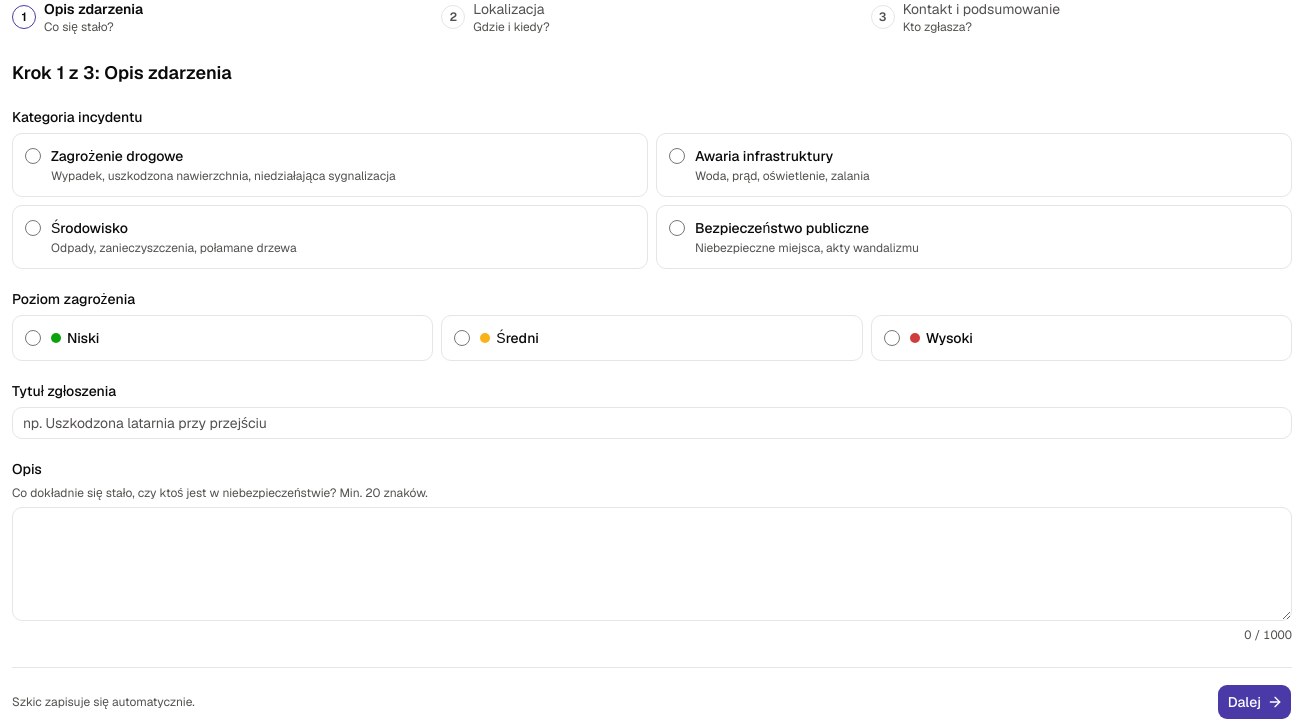
Scenario: IncidentForm › blocks the first step until it is valid and stays accessible with errors shown
The image size is (1304, 720).
(page scrolled)
Expected: the heading "Krok 1 z 3: Opis zdarzenia" is shown, [12,61,232,84]
Click the button "Dalej": {"x": 1254, "y": 702} [1217,684,1292,719]
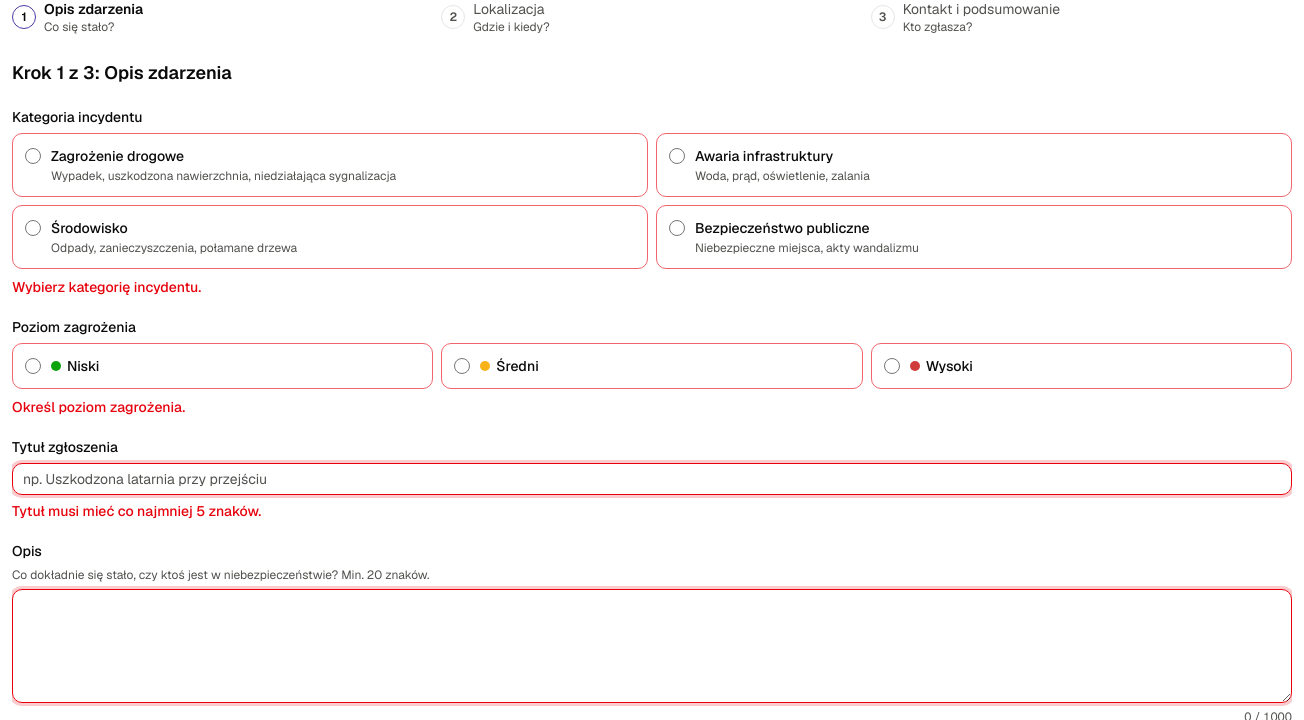
Expected: the heading "Krok 1 z 3: Opis zdarzenia" is shown, [12,61,232,84]
Expected: the text "Wybierz kategorię incydentu." is shown, [12,278,201,296]
